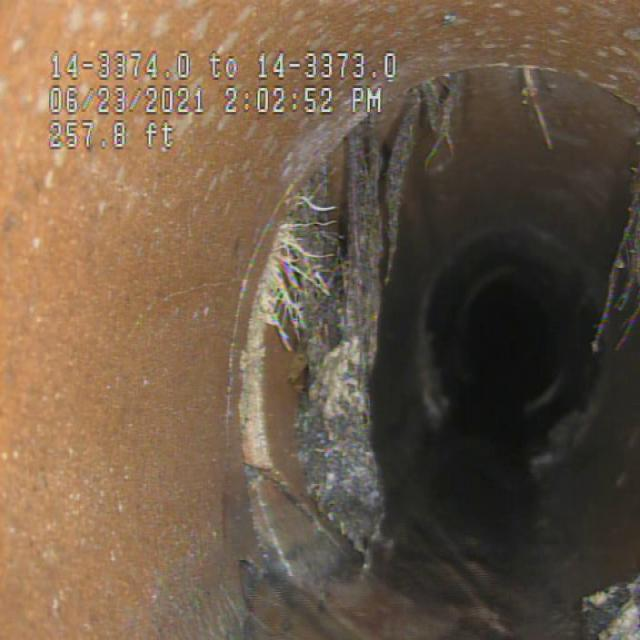Crack: (118, 251, 270, 578), (272, 452, 352, 578)
